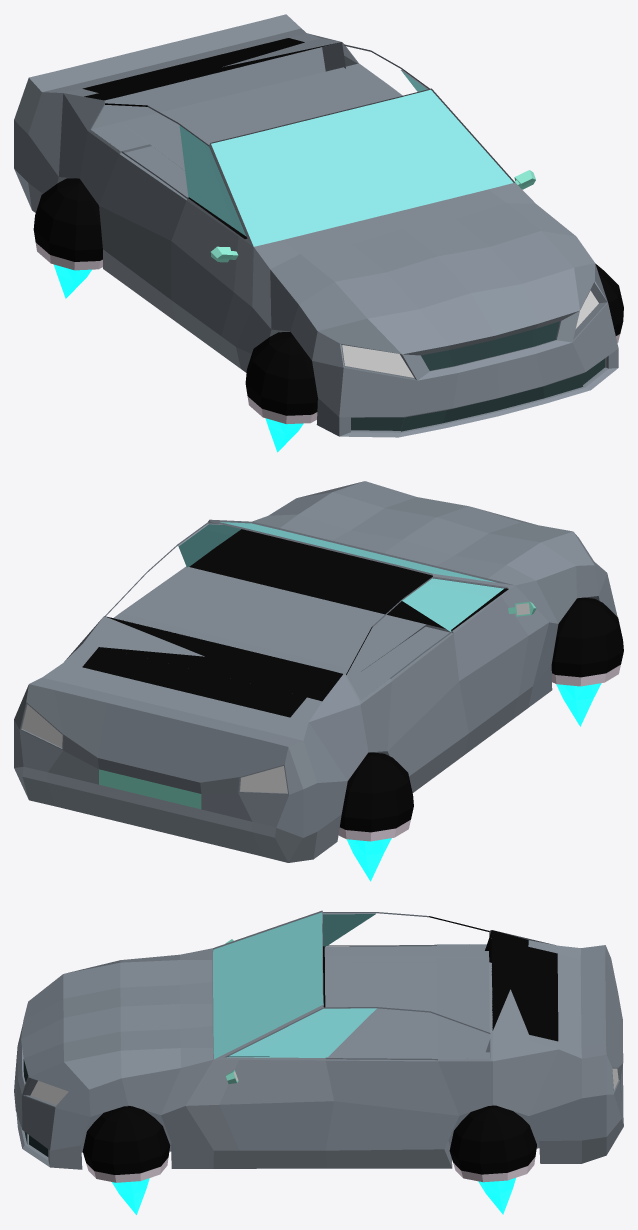
Rendered from FloatingCar2.fbx.
3 renders of one model, top to bottom at view 1: azimuth 30°, elevation 25°; view 2: azimuth 150°, elevation 25°; view 3: azimuth 270°, elevation 25°, orthographic. The views are drawn at different scales.
Visible parts, largest first — view 1: FloatingCar; view 2: FloatingCar; view 3: FloatingCar.
Boxes of the visible parts, bbox=[...] form: FloatingCar: bbox=[14, 14, 623, 452]; FloatingCar: bbox=[14, 481, 623, 881]; FloatingCar: bbox=[14, 910, 623, 1214].
Size of the model in its own units: 264 by 153 by 438.
